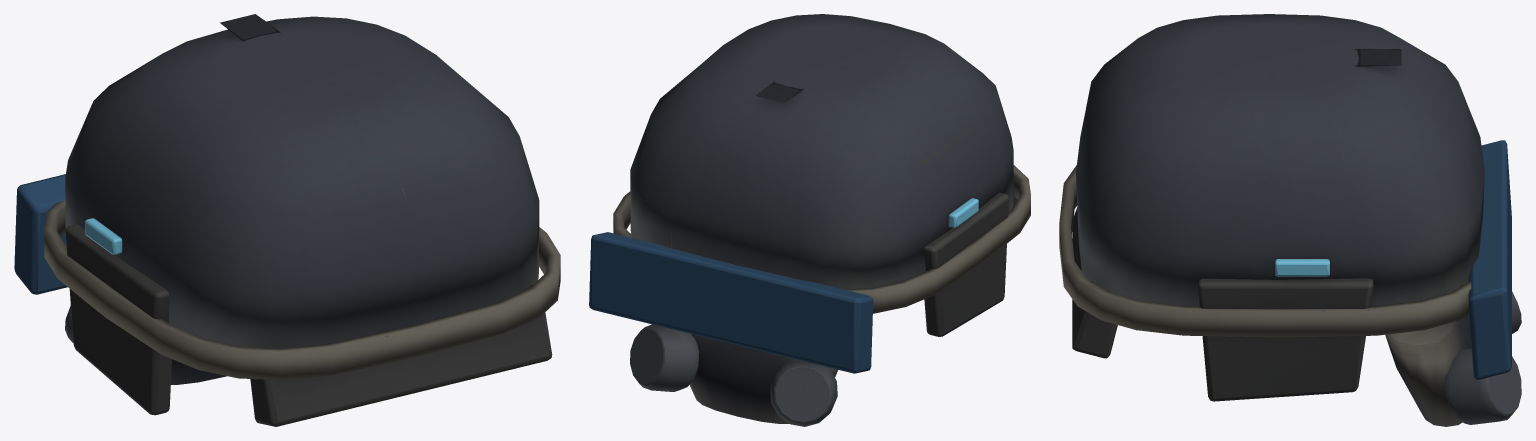
The model's file is Bravo_Head.glb.
3 views of the same model, side by side, from view 1: azimuth 30°, elevation 25°; view 2: azimuth 150°, elevation 25°; view 3: azimuth 270°, elevation 25° (orthographic). The views are drawn at different scales.
Parts seen in each view (by area): view 1: Bravo_Head_body, Bravo_Head_v_visor, Bravo_Head_v_mask; view 2: Bravo_Head_body, Bravo_Head_v_visor, Bravo_Head_v_mask; view 3: Bravo_Head_body, Bravo_Head_v_mask, Bravo_Head_v_visor.
Boxes of the visible parts, left/top/right/bottom form: Bravo_Head_body: left=44, top=14, right=560, bottom=426; Bravo_Head_v_visor: left=14, top=174, right=67, bottom=294; Bravo_Head_v_mask: left=65, top=306, right=226, bottom=384; Bravo_Head_body: left=613, top=14, right=1030, bottom=336; Bravo_Head_v_visor: left=589, top=232, right=873, bottom=373; Bravo_Head_v_mask: left=630, top=324, right=837, bottom=426; Bravo_Head_body: left=1059, top=14, right=1484, bottom=401; Bravo_Head_v_mask: left=1385, top=291, right=1521, bottom=426; Bravo_Head_v_visor: left=1468, top=140, right=1511, bottom=379.
Size of the model in its own units: 1.54 by 1.36 by 1.67.
Materials: 1 (1 with a texture image).
